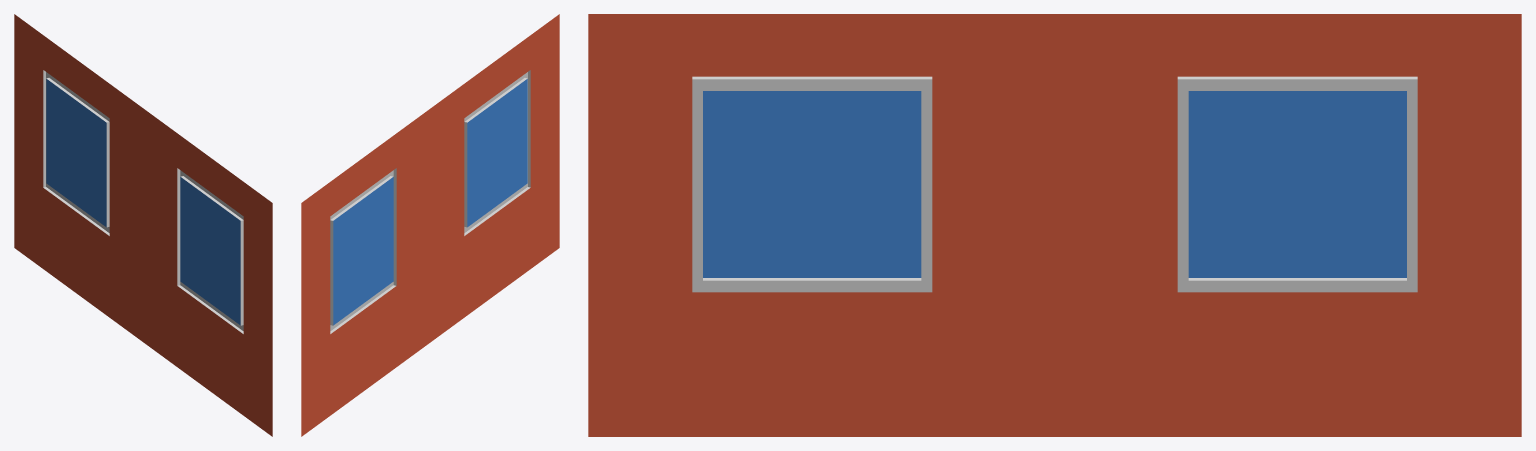
The model's file is 02b_mid.fbx.
3 views of the same model, side by side, from view 1: azimuth 30°, elevation 25°; view 2: azimuth 150°, elevation 25°; view 3: azimuth 270°, elevation 25° (orthographic). The views are drawn at different scales.
Visible parts, largest first — view 1: 02b_Mid; view 2: 02b_Mid; view 3: 02b_Mid.
Part boxes in pixels (<box>): 02b_Mid: <box>14,14,272,436</box>; 02b_Mid: <box>301,14,559,436</box>; 02b_Mid: <box>588,14,1521,436</box>.
Bounding box in the file's own units: 0.3294 × 50 × 25.
